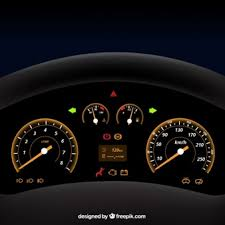Digital_Meter: (89, 143, 133, 160)
